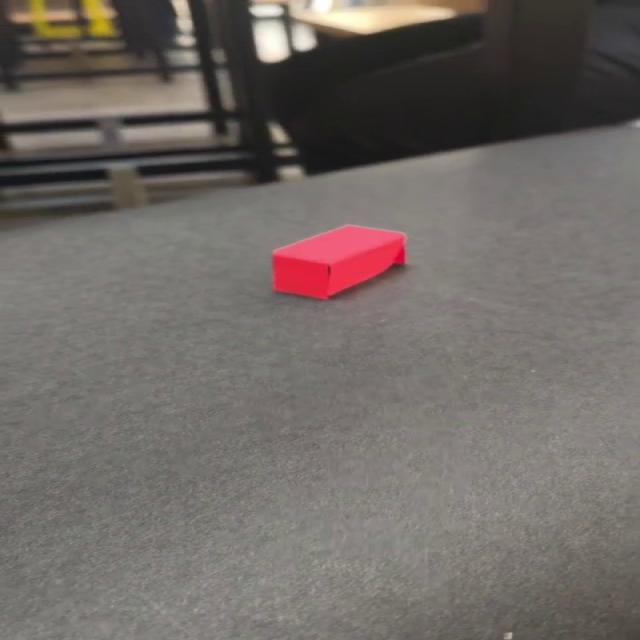red block: (270, 223, 406, 300)
